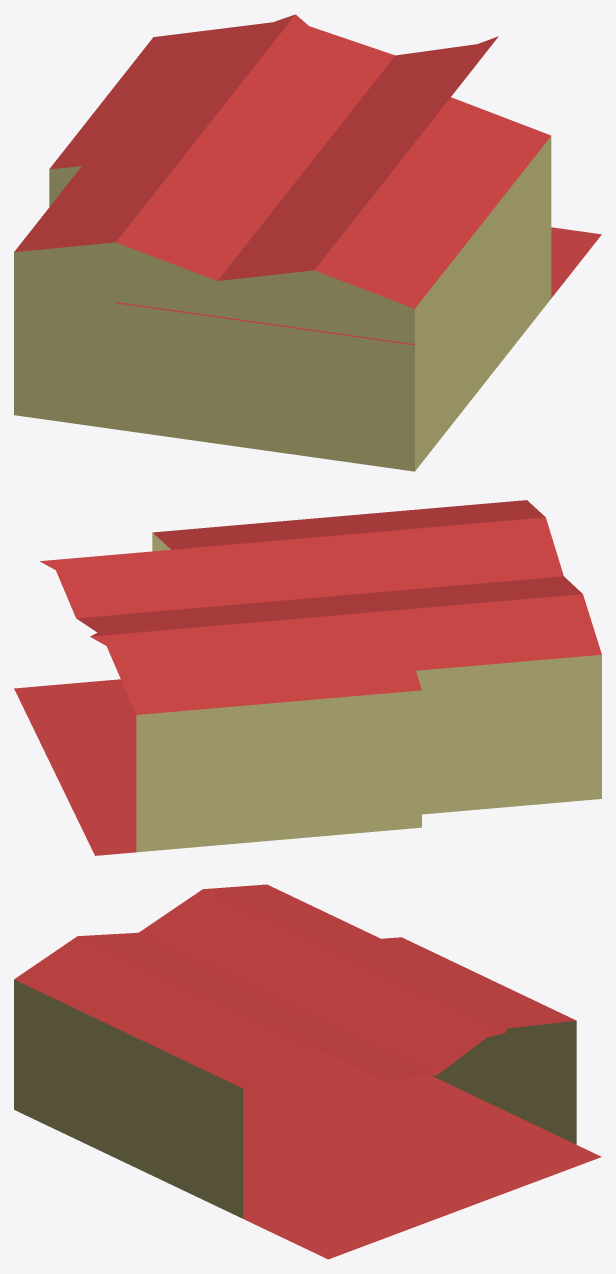
The picture shows the model from 3 angles, top to bottom: view 1: azimuth 30°, elevation 25°; view 2: azimuth 150°, elevation 25°; view 3: azimuth 270°, elevation 25°; orthographic projection. The views are drawn at different scales.
Size of the model in its own units: 51.14 by 51.95 by 14.6.
